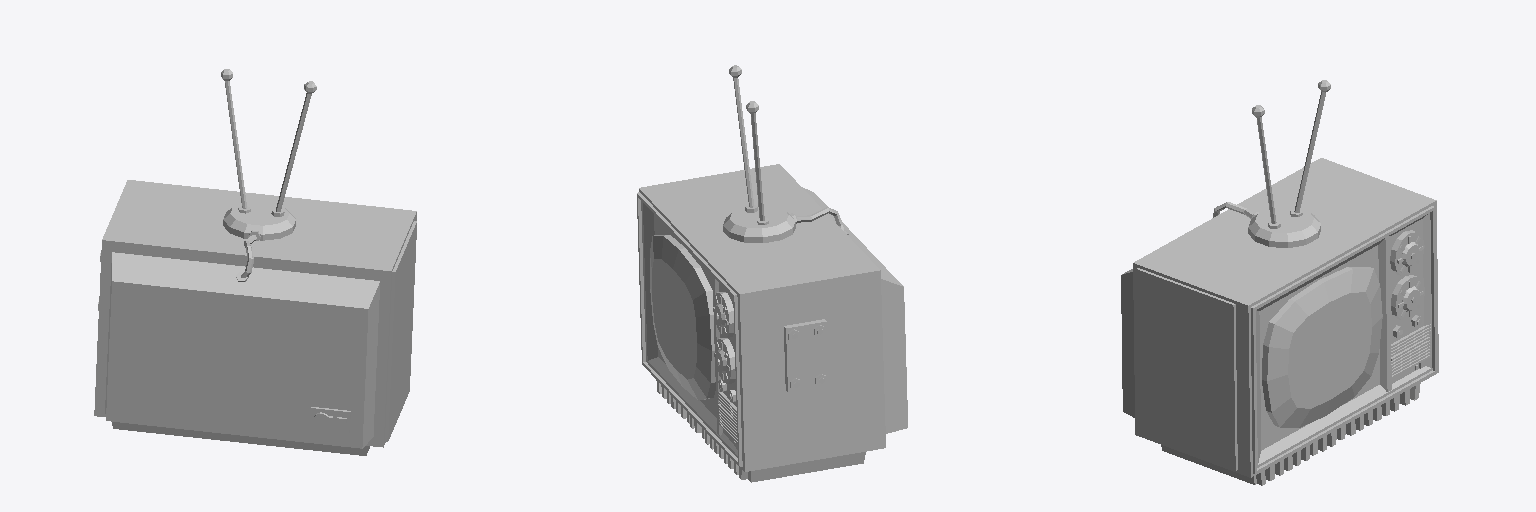
The model's file is Television.obj.
3 views of the same model, side by side, from view 1: azimuth 30°, elevation 25°; view 2: azimuth 150°, elevation 25°; view 3: azimuth 270°, elevation 25° (orthographic).
Visible parts, largest first — view 1: group[number redacted]; view 2: group[number redacted]; view 3: group[number redacted].
Part boxes in pixels (left/top/right/bottom): group[number redacted]: left=94, top=69, right=416, bottom=455; group[number redacted]: left=637, top=65, right=907, bottom=482; group[number redacted]: left=1121, top=80, right=1438, bottom=485.
Size of the model in its own units: 0.6722 by 0.759 by 0.6375.